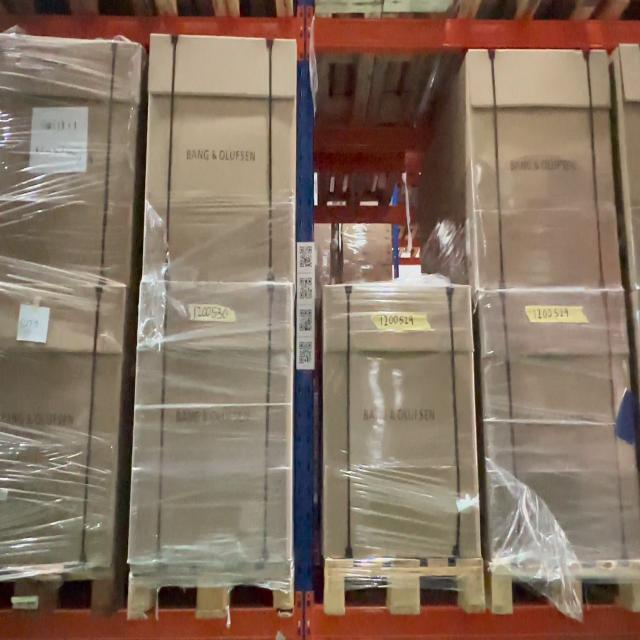box: (127, 283, 292, 562), (323, 284, 481, 560), (142, 34, 297, 284), (467, 49, 621, 290)
